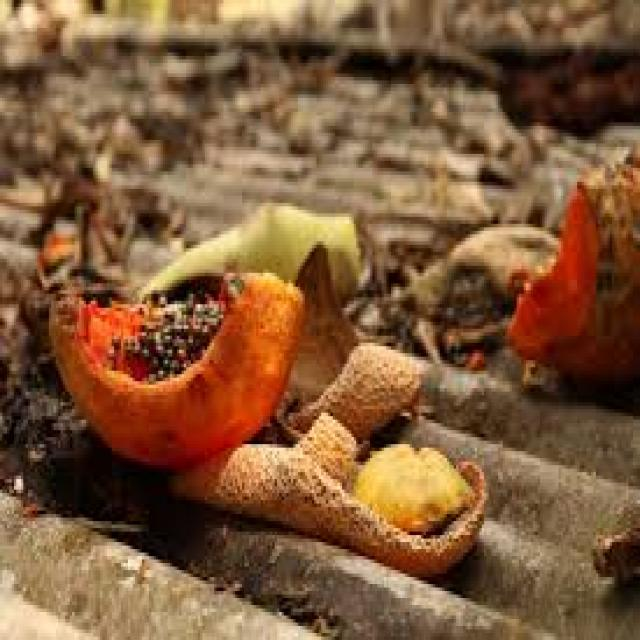organic waste: (158, 413, 482, 577), (46, 266, 302, 472), (268, 238, 419, 430), (505, 161, 638, 378), (140, 196, 365, 311), (354, 437, 472, 539)
